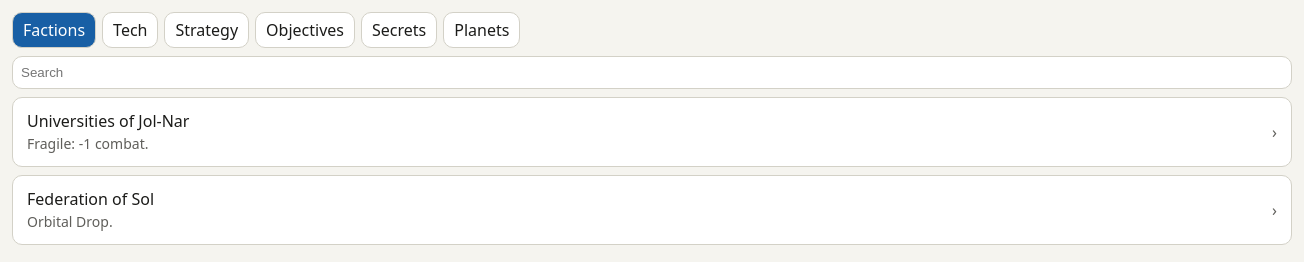
Test case: ReferenceBrowser › shows factions by default and filters by search text
Check: the text "Universities of Jol-Nar" is shown, box top-left (27, 110), bottom-right (189, 132)
Check: the text "Federation of Sol" is shown, box top-left (27, 188), bottom-right (154, 210)
In the field with placeholder "Search": (652, 72) top-left (12, 56), bottom-right (1292, 89), type "jol"
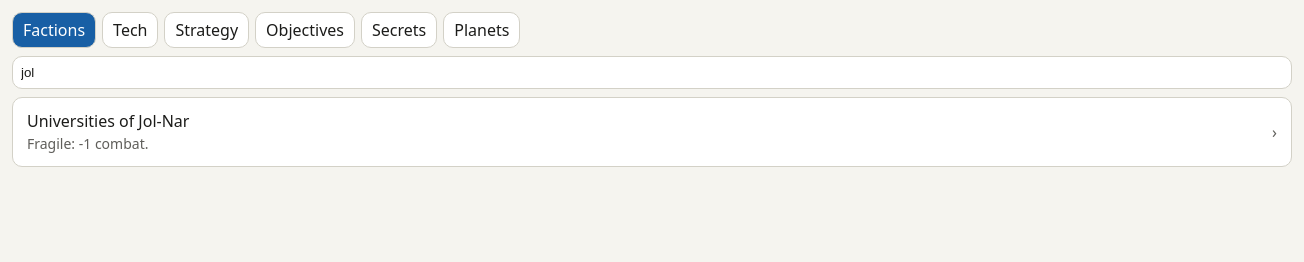
Check: the text "Universities of Jol-Nar" is shown, box top-left (27, 110), bottom-right (189, 132)
Check: the button "Federation of Sol" is gone
